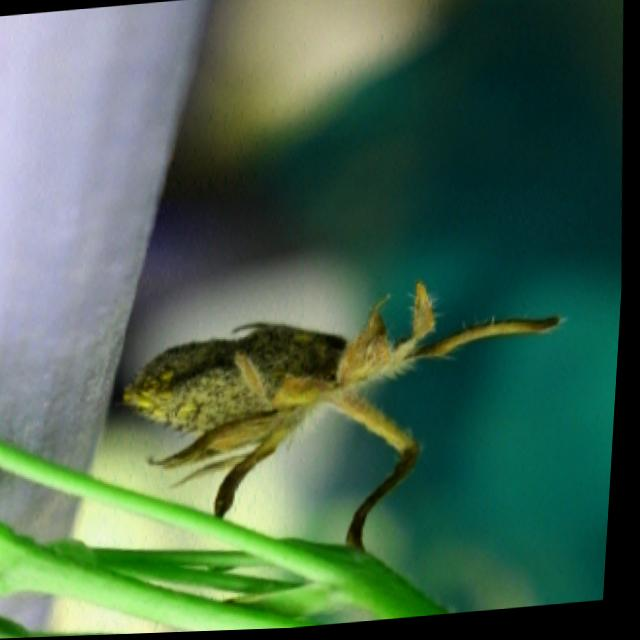Gray Mold: (127, 281, 566, 524)
